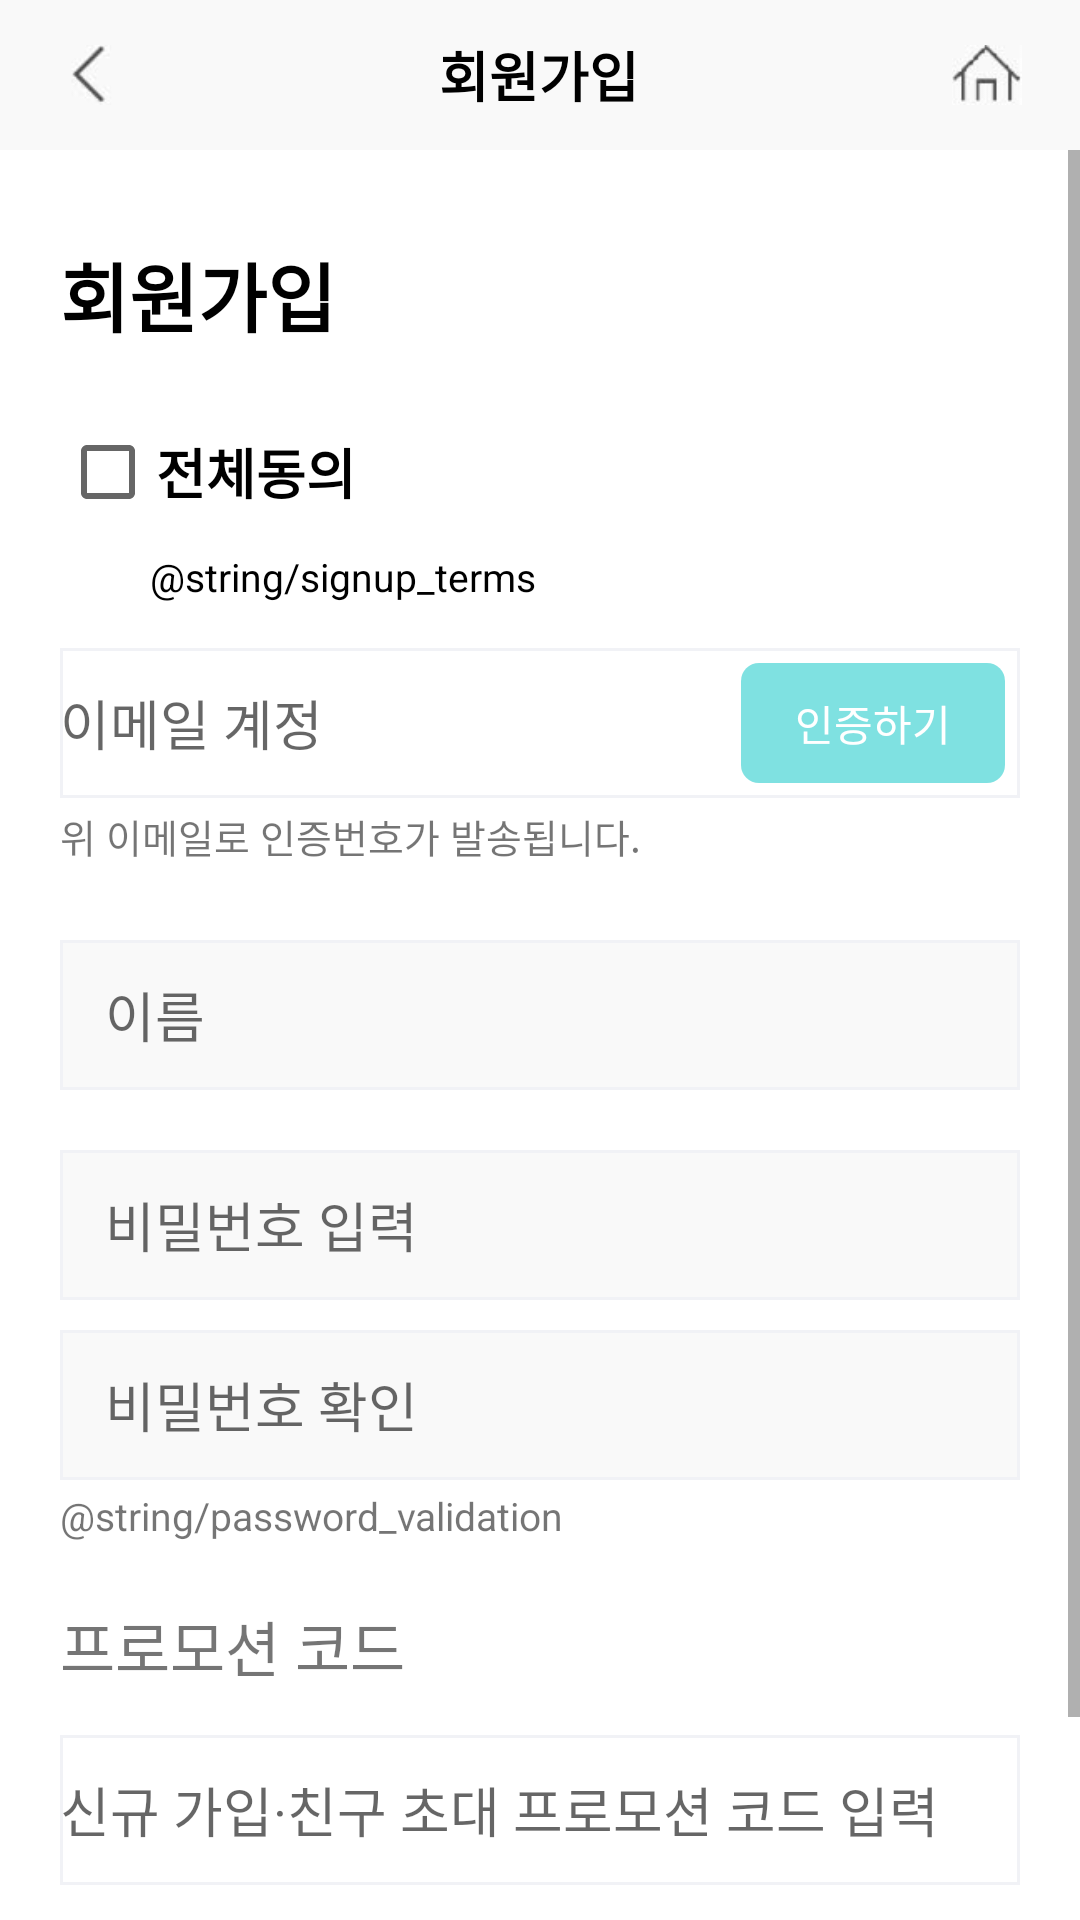

Icon bounding boxes for this 1080*1920 phone screenshot, format (x1, y1, x2, y2):
back: (73, 46, 105, 102)
home: (953, 45, 1020, 102)
